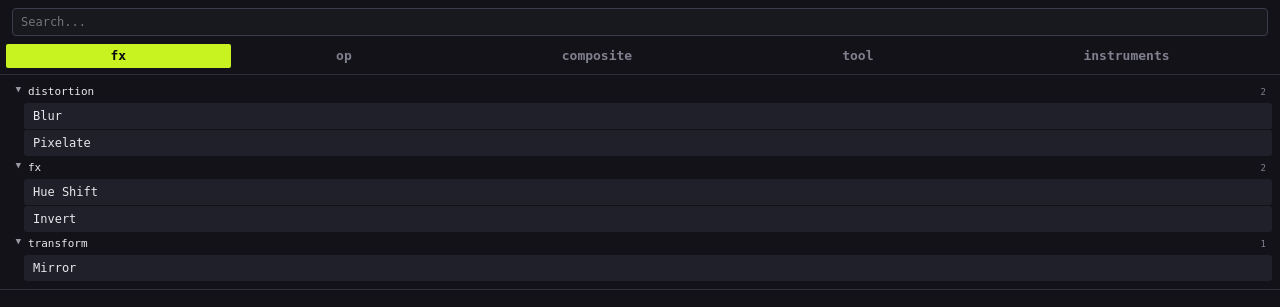
Test: Interactions — Effect Browser Search › search filters effects by name
Check: the number of buttons with class "effect-browser__item" is 5, box [24,103,1272,129]; [24,130,1272,156]; [24,179,1272,205]; [24,206,1272,232]; [24,255,1272,281]
# Type "invert" — should narrow results
In the field with class "effect-search__input": (640, 22) [12,8,1268,36], type "invert"
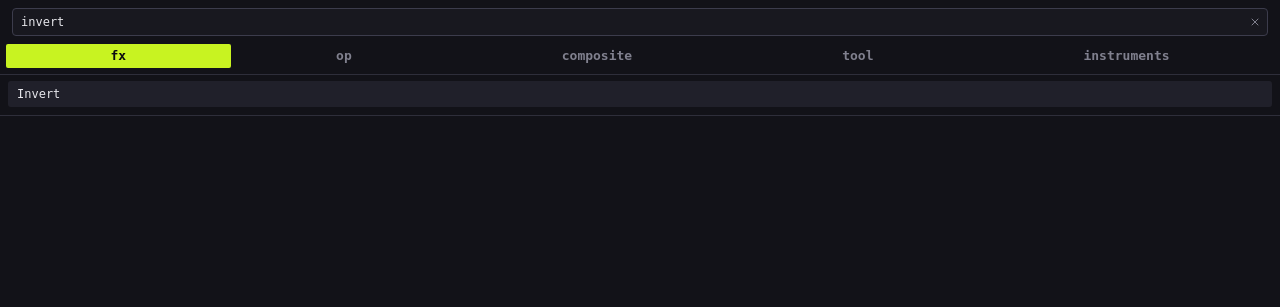
Check: the number of buttons with class "effect-browser__item" is 1, box [8,81,1272,107]
# Clear search — all effects return
Clear the field with class "effect-search__input": (640, 22) [12,8,1268,36]
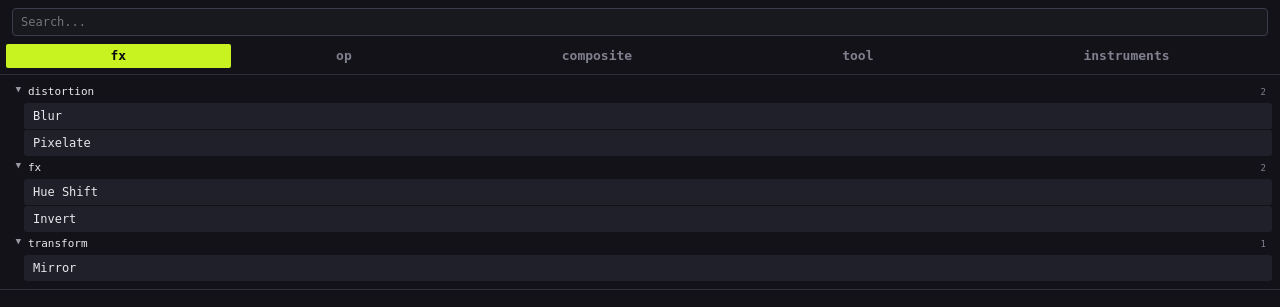
Check: the number of buttons with class "effect-browser__item" is 5, box [24,103,1272,129]; [24,130,1272,156]; [24,179,1272,205]; [24,206,1272,232]; [24,255,1272,281]
